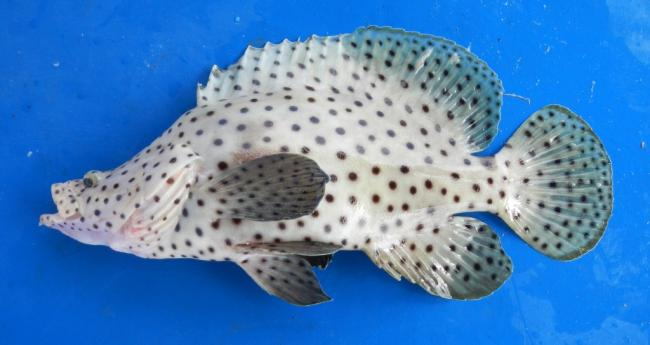fish: (40, 25, 611, 305)
